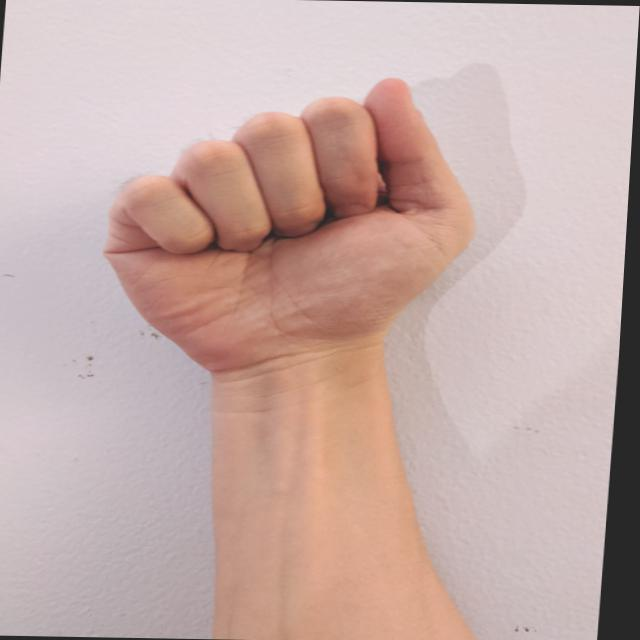A: (80, 61, 502, 388)
